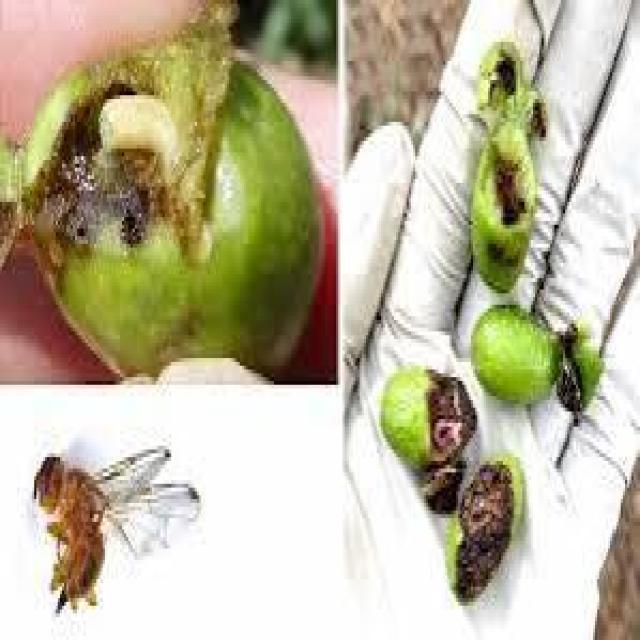Anthracnose: (0, 0, 328, 377), (379, 366, 522, 583), (469, 34, 546, 290), (471, 305, 614, 423)
